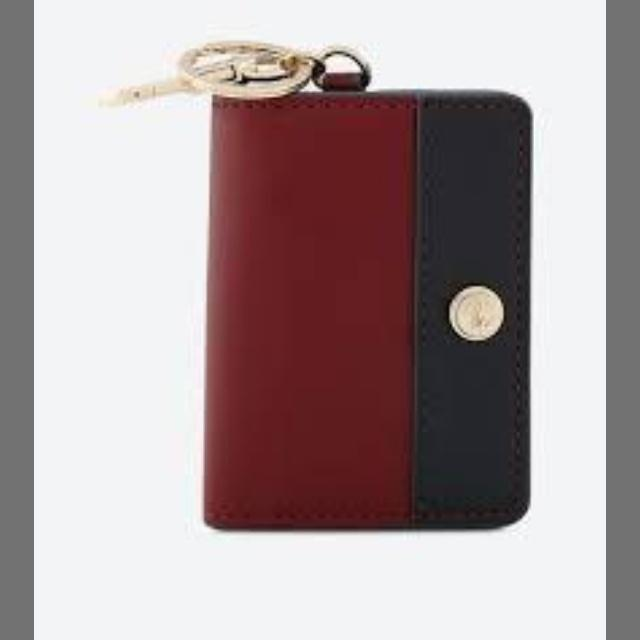Wallet: (211, 77, 521, 543)
